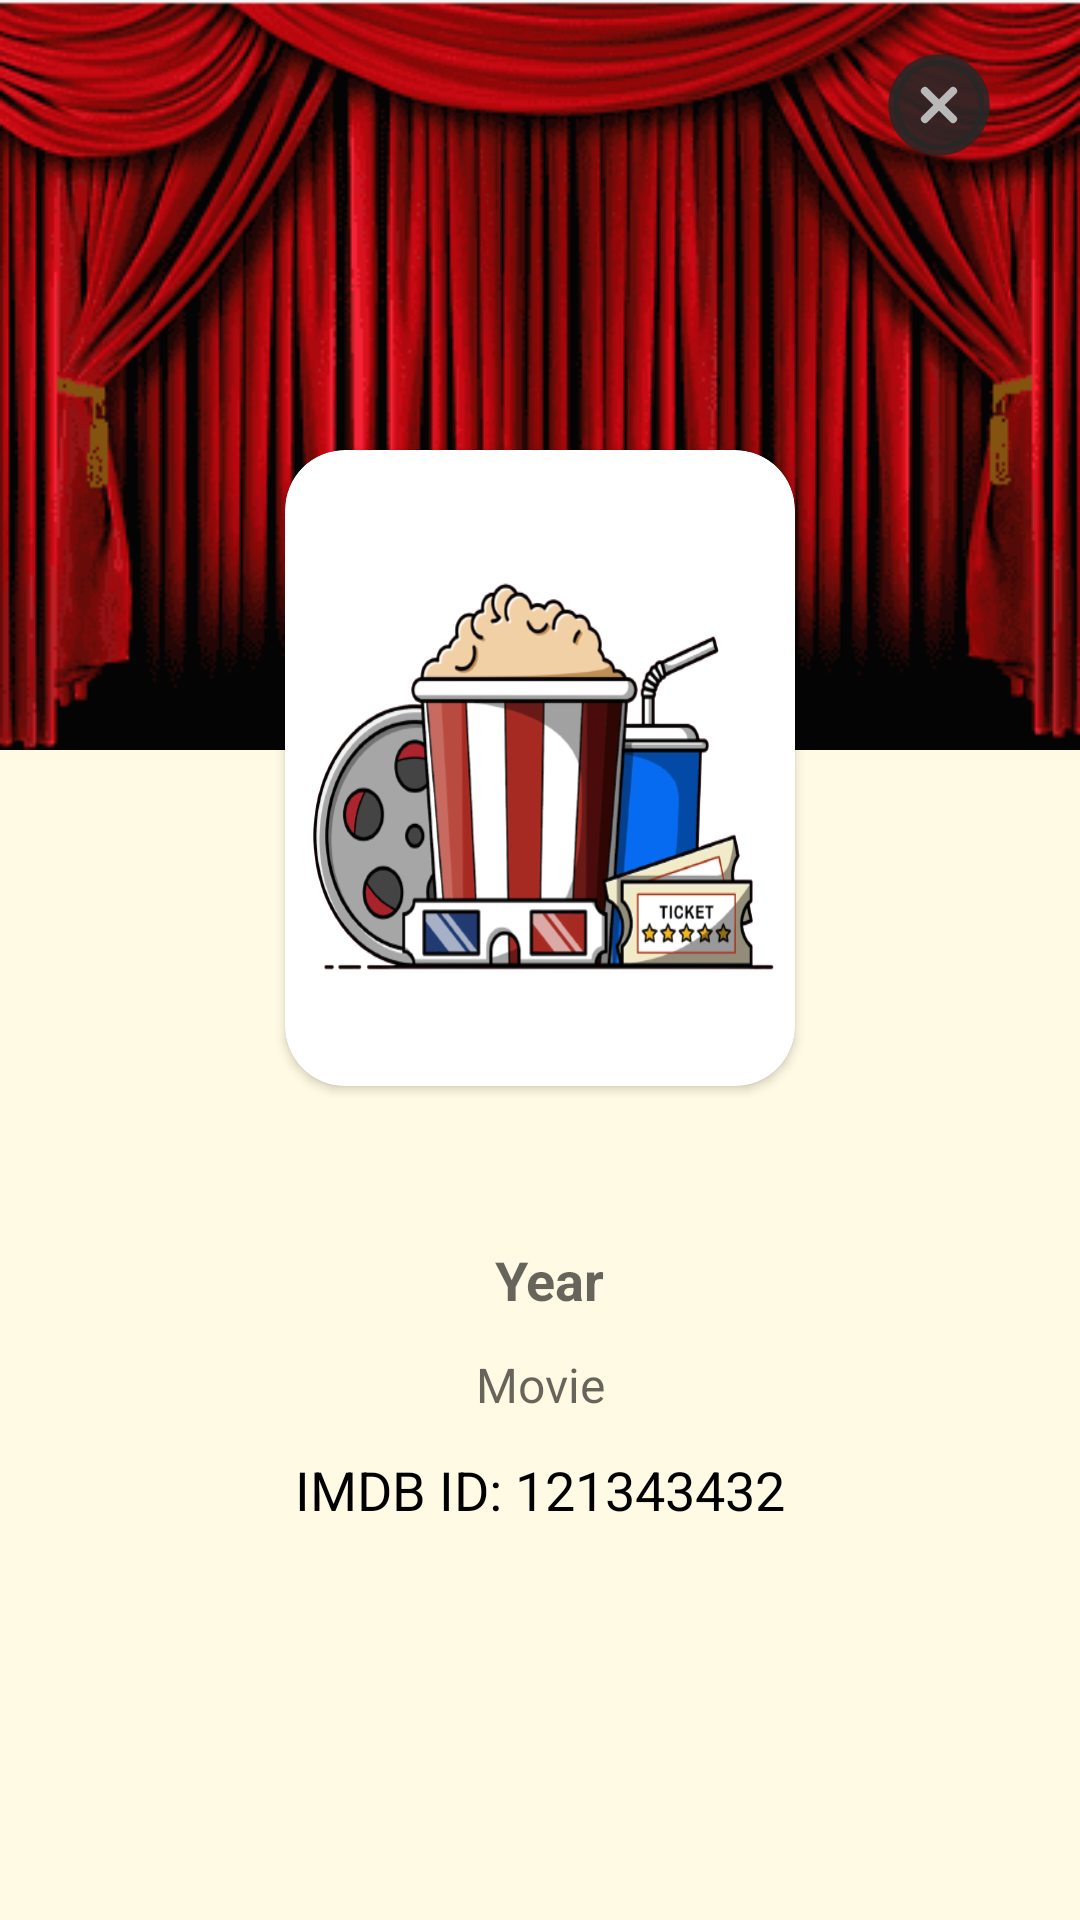

Icon click points for this 1080 × 1920 phone screenshot, format [x,y]:
close: [939,105]
